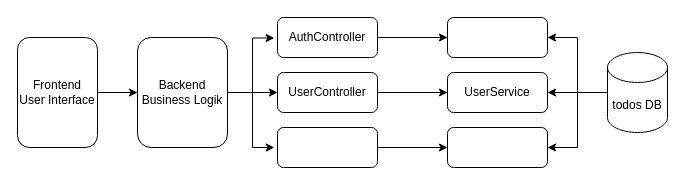
Image size: 685x185. Some labels were removed from this diagram. Each missing label, with the centre of its shape:
AuthService: [497,37]
TodoController: [327,147]
TodoService: [497,147]
